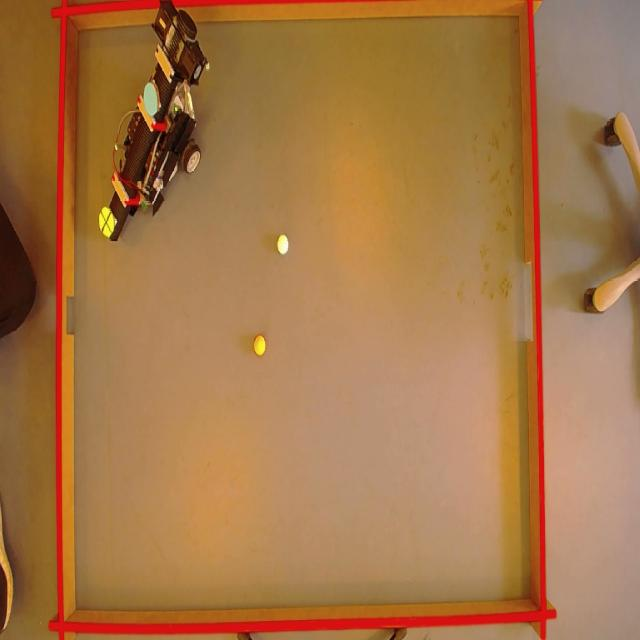orange: (254, 336, 268, 356)
robot: (99, 2, 209, 250)
robot-front: (98, 206, 115, 238)
robot-rear: (141, 83, 159, 115)
white: (275, 233, 289, 255)
